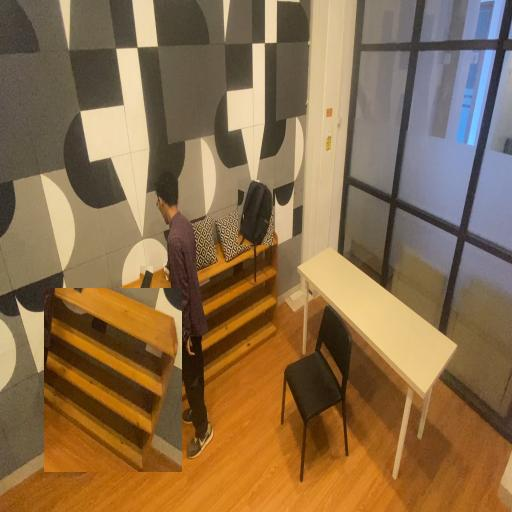bantal: (216, 208, 252, 264), (192, 216, 218, 269)
hp: (140, 266, 153, 296)
kursi: (280, 301, 354, 483)
lemari: (44, 288, 182, 472)
tas ransel: (238, 180, 273, 245)
